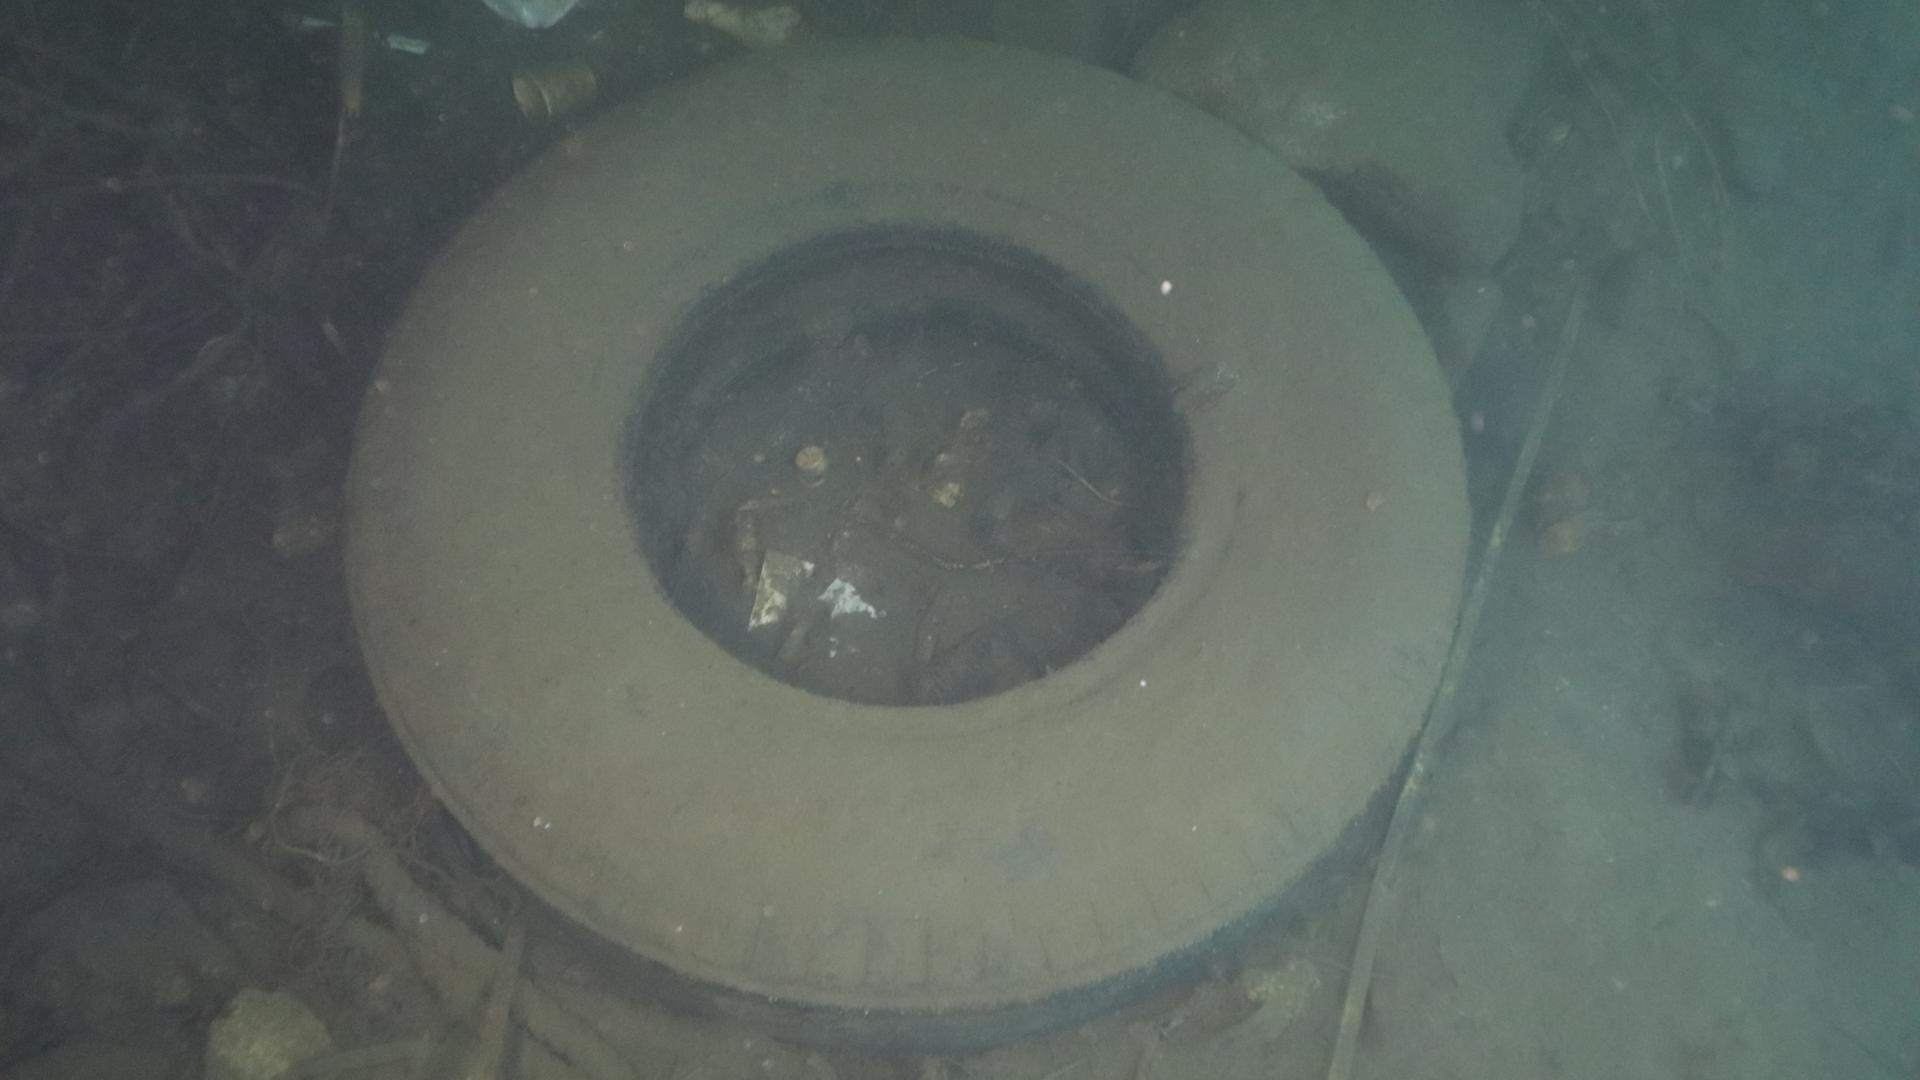tire: (340, 33, 1472, 1055)
